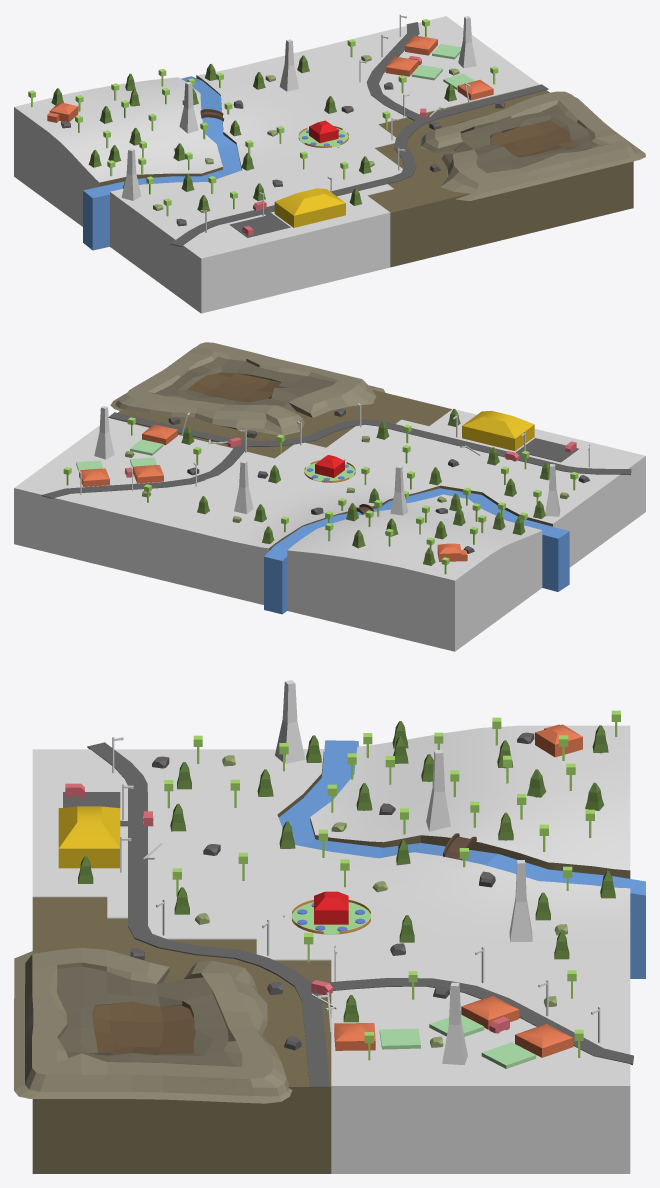
File: Nox Mortis Grey Box Water & Props.fbx
3 views of the same model, one above another, from view 1: azimuth 30°, elevation 25°; view 2: azimuth 150°, elevation 25°; view 3: azimuth 270°, elevation 25° (orthographic). The views are drawn at different scales.
Parts seen in each view (by area): view 1: Baseplate, Upper Quarry, Road, Cube, Base Quarry, Trees Type 2, Trees Type 1, Pylons, Store, Abandoned House, Deep Quarry, Yards (+3 smaller); view 2: Baseplate, Upper Quarry, Road, Cube, Trees Type 2, Base Quarry, Trees Type 1, Pylons, Store, Abandoned House, Deep Quarry, Yards (+3 smaller); view 3: Baseplate, Upper Quarry, Road, Base Quarry, Cube, Trees Type 2, Pylons, Trees Type 1, Deep Quarry, Abandoned House, Store, Yards (+6 smaller).
Part boxes in pixels (<box>): Baseplate: <box>14,16,633,313</box>; Upper Quarry: <box>420,91,645,200</box>; Road: <box>170,22,548,246</box>; Cube: <box>83,76,241,250</box>; Base Quarry: <box>454,104,597,172</box>; Trees Type 2: <box>51,55,456,212</box>; Trees Type 1: <box>28,19,498,216</box>; Pylons: <box>121,16,476,200</box>; Store: <box>274,188,345,227</box>; Abandoned House: <box>47,35,493,122</box>; Deep Quarry: <box>491,120,575,157</box>; Yards: <box>411,44,474,89</box>; Baseplate: <box>14,389,645,651</box>; Upper Quarry: <box>110,342,385,435</box>; Road: <box>41,412,631,498</box>; Cube: <box>264,488,569,614</box>; Trees Type 2: <box>181,408,549,565</box>; Base Quarry: <box>156,356,335,412</box>; Trees Type 1: <box>63,417,578,574</box>; Pylons: <box>94,406,560,516</box>; Store: <box>462,410,534,450</box>; Abandoned House: <box>79,424,467,561</box>; Deep Quarry: <box>187,372,280,402</box>; Yards: <box>76,439,163,470</box>; Baseplate: <box>32,725,630,1173</box>; Upper Quarry: <box>14,947,292,1103</box>; Road: <box>63,742,633,1087</box>; Base Quarry: <box>57,966,235,1066</box>; Cube: <box>279,740,645,978</box>; Trees Type 2: <box>78,721,615,1022</box>; Pylons: <box>275,680,532,1064</box>; Trees Type 1: <box>164,710,620,1060</box>; Deep Quarry: <box>92,1001,196,1054</box>; Abandoned House: <box>334,724,582,1057</box>; Store: <box>58,806,120,868</box>; Yards: <box>379,1014,536,1068</box>.
Bounding box in the file's own units: 21570 × 4839 × 15855.
